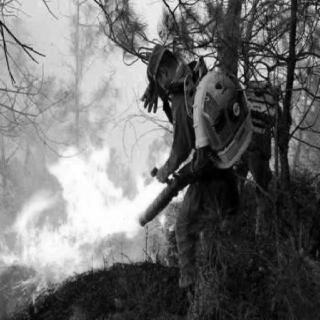Fire: (2, 137, 170, 279)
